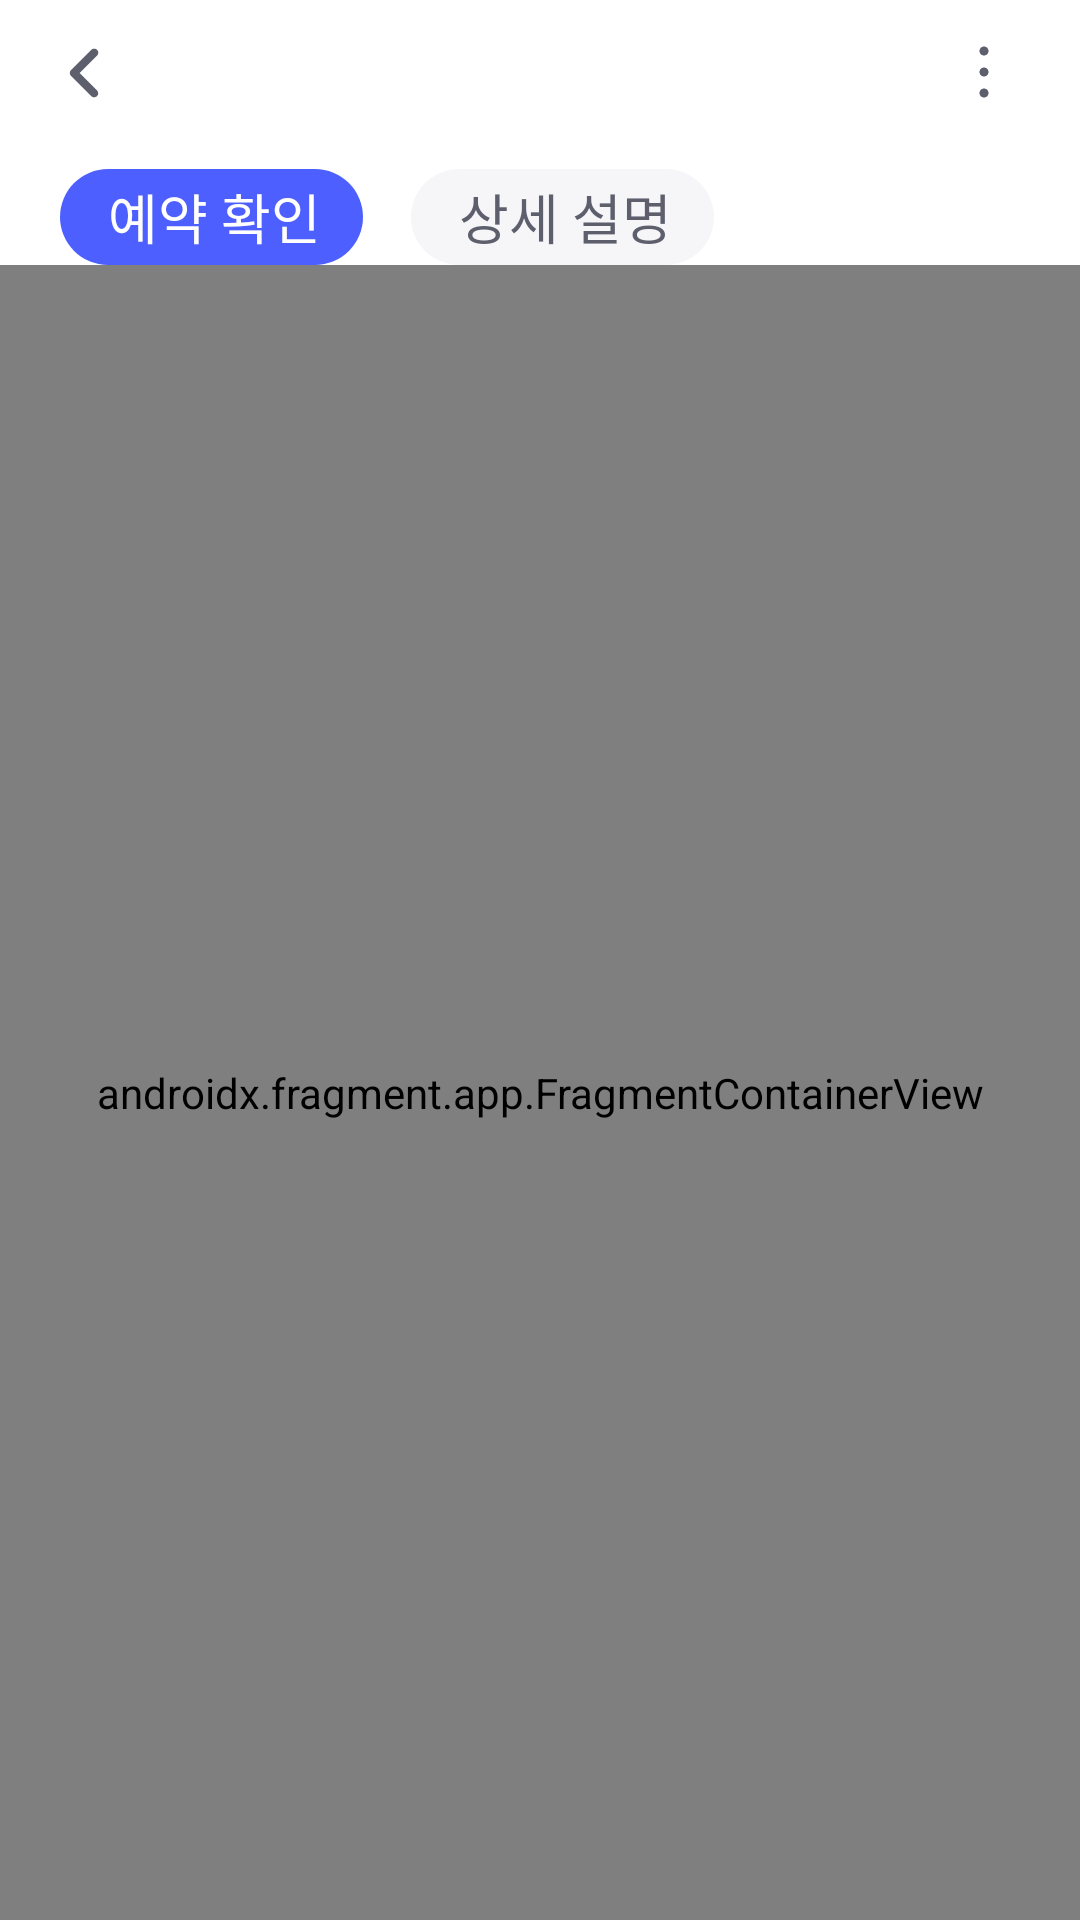

Named icons in this screenshot (1080w x 1920h) and their bounding boxes, (x1, y1, x2, y2):
더보기 아이콘: (979, 46, 989, 98)
뒤로 가기 버튼: (70, 48, 99, 98)
